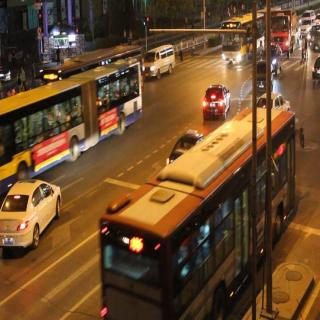BigCar: (96, 104, 306, 319), (0, 55, 142, 167), (222, 10, 267, 61), (267, 12, 297, 60)
Car: (0, 175, 63, 257), (202, 82, 232, 122), (144, 45, 176, 81), (254, 61, 279, 92), (262, 43, 284, 74)
